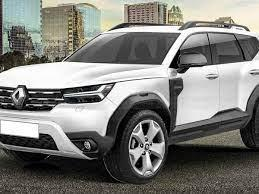Renault: (8, 82, 33, 111)
